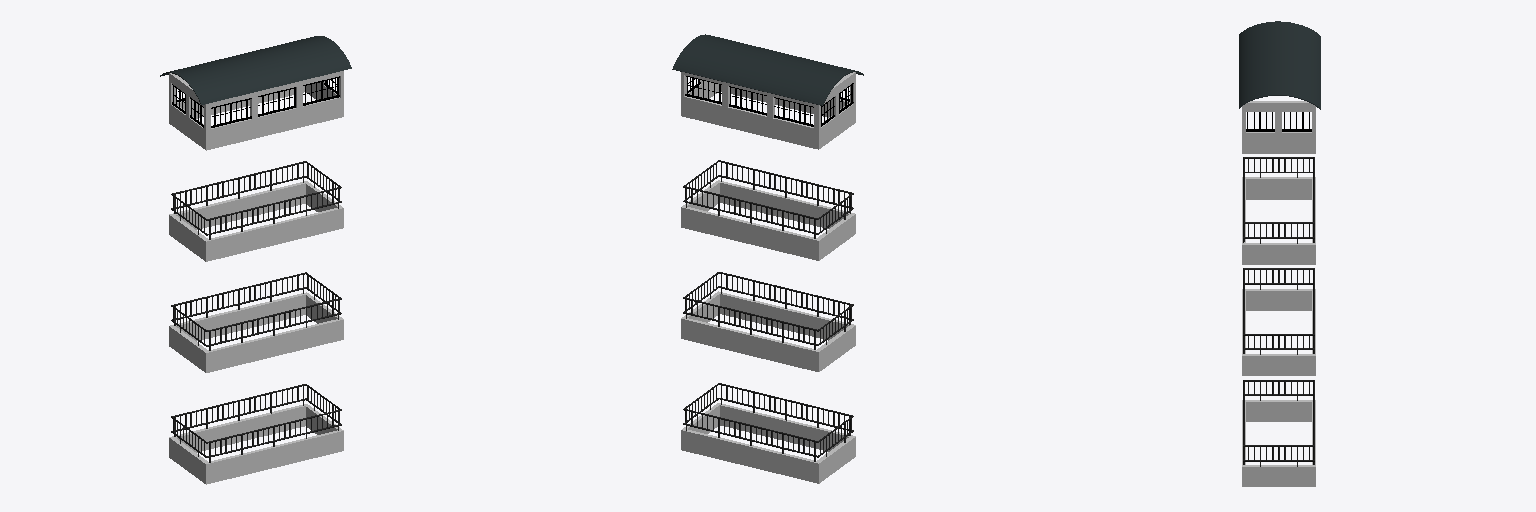
File: balcon_3.obj
The picture shows the model from 3 angles: view 1: azimuth 30°, elevation 25°; view 2: azimuth 150°, elevation 25°; view 3: azimuth 270°, elevation 25°; orthographic projection.
Visible parts, largest first — view 1: TRAGALUZ_CUADRADOS_Plane.000; view 2: TRAGALUZ_CUADRADOS_Plane.000; view 3: TRAGALUZ_CUADRADOS_Plane.000.
Part boxes in pixels (x1,y1,x2,y2): TRAGALUZ_CUADRADOS_Plane.000: (160,36,351,484); TRAGALUZ_CUADRADOS_Plane.000: (672,34,863,483); TRAGALUZ_CUADRADOS_Plane.000: (1239,21,1320,486).
Bounding box in the file's own units: 7.78 × 19.54 × 3.69.